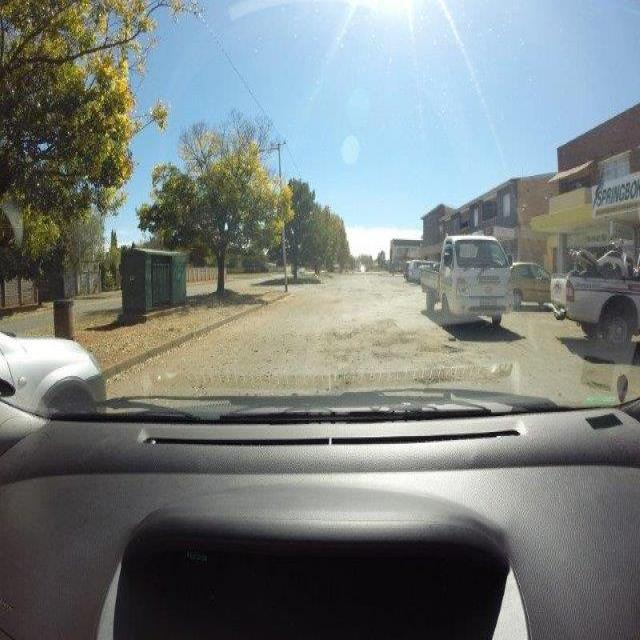lubang: (308, 314, 422, 364), (407, 368, 452, 391), (429, 344, 472, 354), (584, 375, 614, 389)
